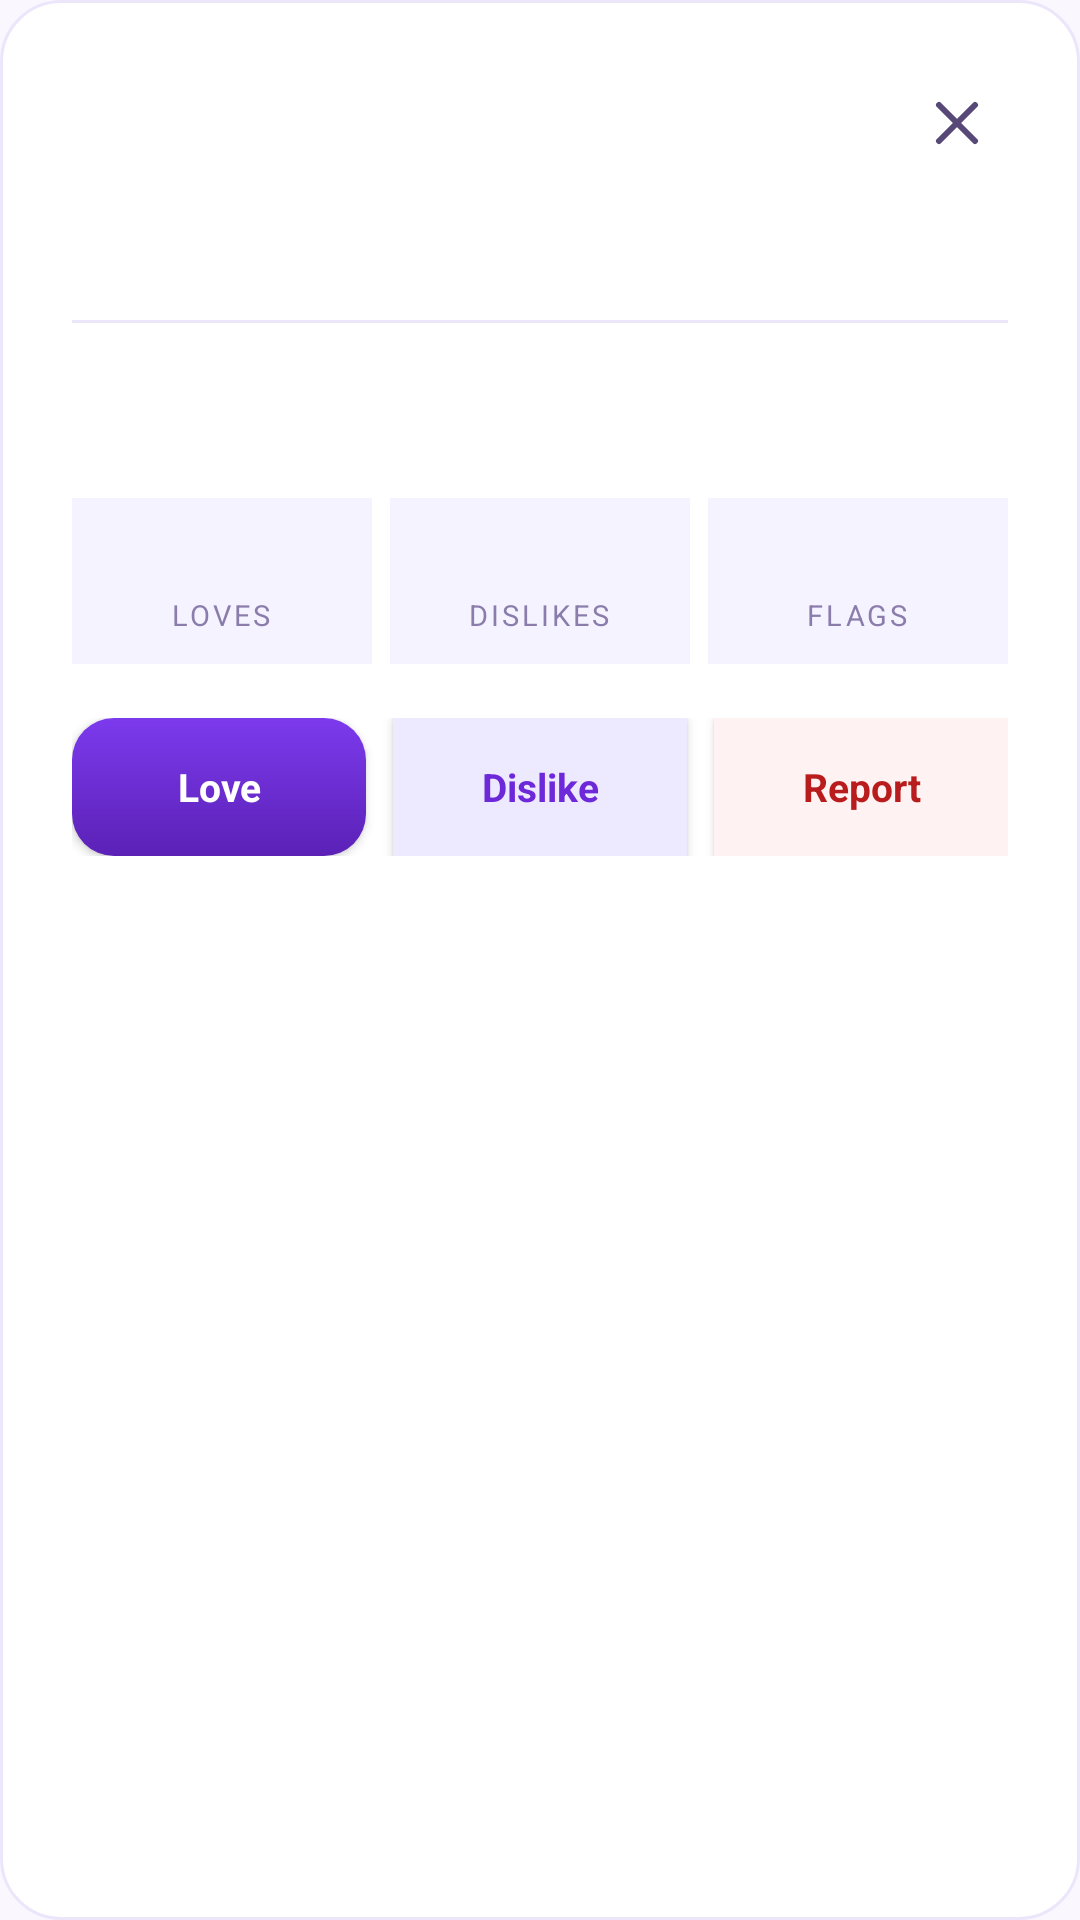

Icon click points for this 1080 x 1920 phone screenshot, format (x,y):
Close: (957,123)
